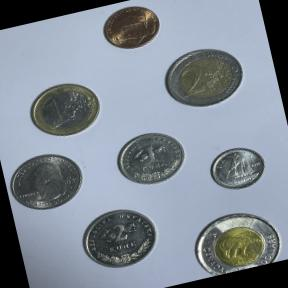coin: (152, 36, 255, 121), (185, 201, 288, 279), (71, 197, 168, 279), (0, 142, 92, 221), (20, 71, 110, 149), (93, 0, 170, 59), (204, 138, 272, 198)
